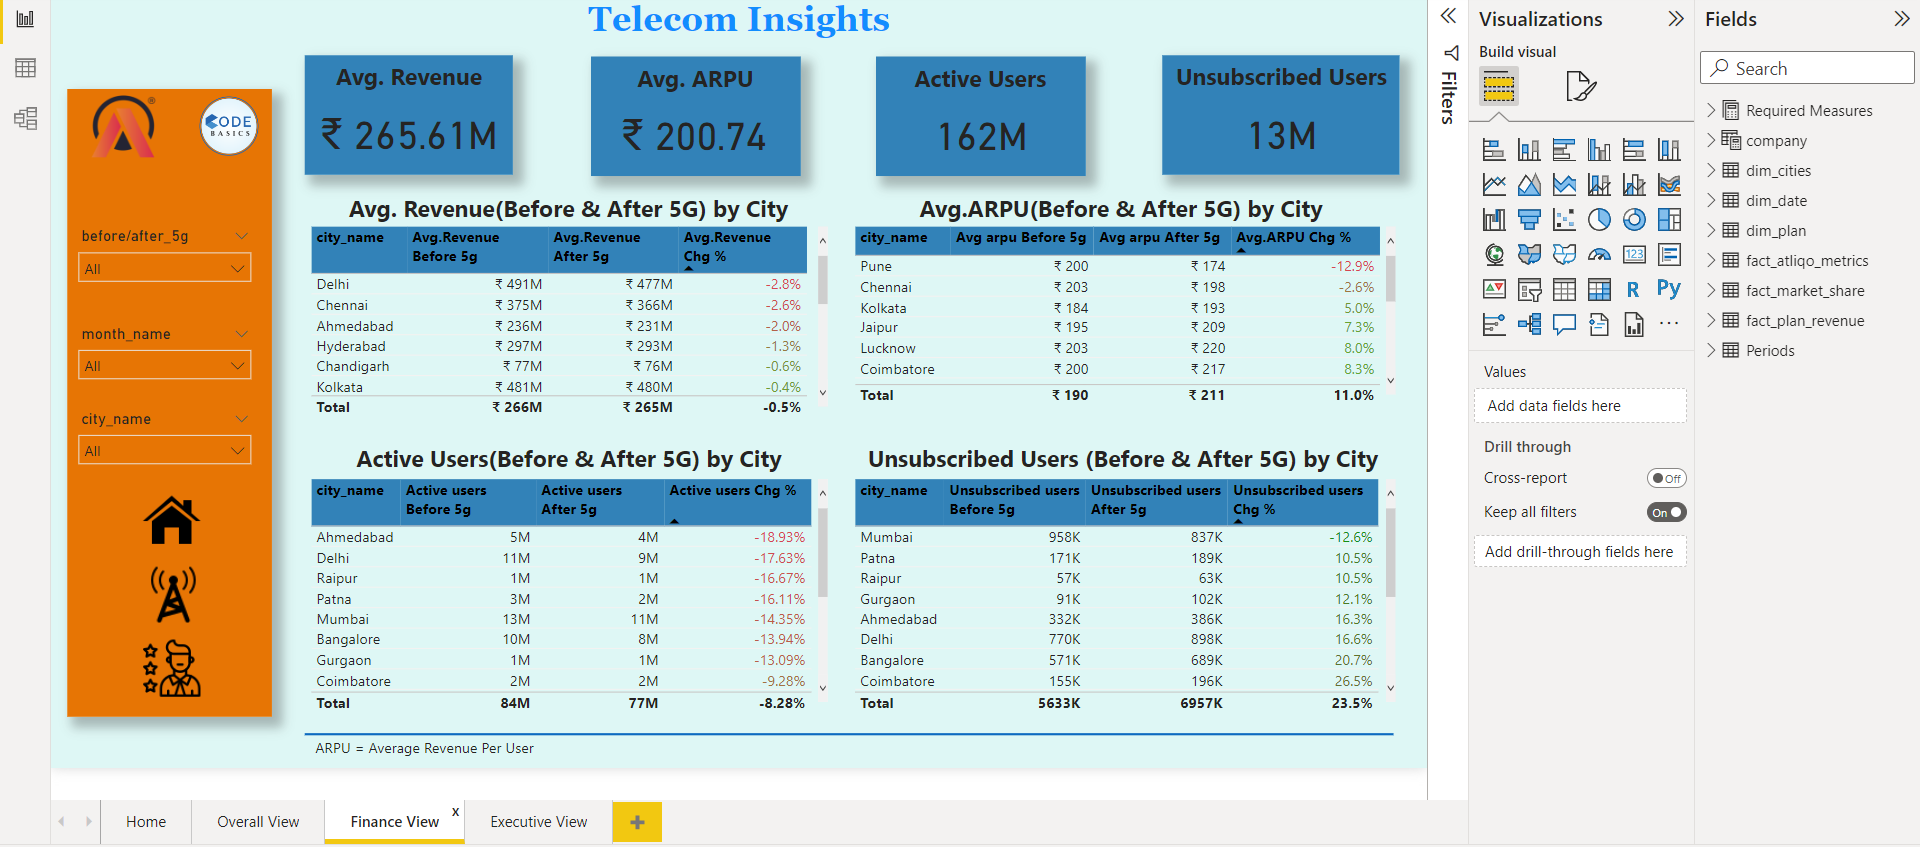

The dashboard page shown, as its layout file describes it:
{"tool":"powerbi","page":{"name":"Finance View","canvas":[1280,720],"ordinal":2},"visuals":[{"type":"shape","box":[235.7,57.4,193.6,111.2],"z":0,"group":"g1"},{"type":"shape","box":[15.5,88.1,190.4,584.3],"z":0},{"type":"shape","box":[501.7,57.8,195,111.2],"z":1000,"group":"g2"},{"type":"slicer","fields":{"Values":["dim_date.month_name"]},"box":[15.5,302.3,180.9,69],"z":1000},{"type":"shape","box":[768.3,57.8,195,111.2],"z":2000,"group":"g3"},{"type":"slicer","fields":{"Values":["dim_cities.city_name"]},"box":[15.5,380.8,180.9,78.5],"z":2000},{"type":"shape","box":[1034.7,57.4,221.1,111.2],"z":3000,"group":"g4"},{"type":"slicer","fields":{"Values":["dim_date.before/after_5g"]},"box":[15.5,211.8,180.9,72.6],"z":3000},{"type":"image","box":[27.4,88.1,79.7,69],"z":4000},{"type":"image","box":[126.1,88.1,79.7,69],"z":5000},{"type":"card","title":"Av","fields":{"Values":["Required Measures.Average Revenue"]},"box":[235.6,89.1,194.2,79.6],"z":5000,"group":"g1"},{"type":"card","fields":{"Values":["Required Measures.Avg arpu"]},"box":[500.9,89.5,194.2,79.6],"z":6000,"group":"g2"},{"type":"tableEx","fields":{"Values":["dim_cities.city_name","Required Measures.Avg arpu Before 5g","Required Measures.Avg arpu After 5g","Required Measures.A arpu CHNG pct"]},"box":[741.4,211.8,514.1,174.9],"z":6000},{"type":"card","fields":{"Values":["Required Measures.Total Active Users"]},"box":[768.9,89.5,194.2,79.6],"z":7000,"group":"g3"},{"type":"tableEx","fields":{"Values":["dim_cities.city_name","Required Measures.Active users Before 5g","Required Measures.Active users After 5g","Required Measures.Active users CHNG pct"]},"box":[235.6,446.3,491.5,226.1],"z":7000},{"type":"card","fields":{"Values":["Required Measures.Total Unsubscribed Users"]},"box":[1034.2,89.1,221.9,79.6],"z":8000,"group":"g4"},{"type":"tableEx","fields":{"Values":["dim_cities.city_name","Required Measures.Unsubcribed users Before 5g","Required Measures.Unsubcribed users After 5g","Required Measures.Unsubscribed users CHNG pct"]},"box":[741.4,446.3,514.1,226.1],"z":8000},{"type":"textbox","box":[1034.2,57.8,221.9,47],"z":9000,"group":"g4"},{"type":"tableEx","fields":{"Values":["dim_cities.city_name","Required Measures.Avg Revenue Before 5g","Required Measures.Avg Revenue After 5g","Required Measures.ARCHNG pct"]},"box":[235.6,211.8,491.5,185.7],"z":9000},{"type":"group","id":"g1","title":"Group 1","box":[235.6,57.4,194.4,111.3],"z":10000},{"type":"textbox","box":[767.7,58.2,194.2,47],"z":10000,"group":"g3"},{"type":"group","id":"g2","title":"Group 2","box":[500.9,57.8,195.8,111.3],"z":11000},{"type":"textbox","box":[502.1,58.2,194.2,47],"z":11000,"group":"g2"},{"type":"textbox","box":[235.8,57.8,194.2,47],"z":12000,"group":"g1"},{"type":"group","id":"g3","title":"Group 3","box":[767.7,57.8,195.6,111.3],"z":12000},{"type":"group","id":"g4","title":"Group 4","box":[1034.2,57.4,221.9,111.3],"z":13000},{"type":"textbox","box":[234.4,178.5,492.7,47.6],"z":14000},{"type":"textbox","box":[741.4,178.5,507,47.6],"z":15000},{"type":"textbox","box":[741.4,411.8,510.5,47.6],"z":16000},{"type":"textbox","box":[235.6,411.8,491.5,47.6],"z":17000},{"type":"textbox","box":[240.4,686.7,233.3,33.3],"z":18000},{"type":"shape","box":[235.6,656.9,1012.8,63.1],"z":19000},{"type":"textbox","box":[0,0,1280.5,57.1],"z":20000},{"type":"image","box":[78.5,528.4,69,61.9],"z":21000},{"type":"image","box":[78.5,459.4,66.6,63.1],"z":22000},{"type":"image","box":[78.5,590.3,66.6,72.6],"z":23000}]}

Visuals, with their boxes on the page's 1280x720 design canvas (x1, y1, x2, y2). These are canvas units, not pixel positions in the 1920x847 screenshot, which may show the page scaled, cropped or inside an application window:
shape: 236,57,429,169
shape: 16,88,206,672
shape: 502,58,697,169
slicer - dim_date.month_name: 16,302,196,371
shape: 768,58,963,169
slicer - dim_cities.city_name: 16,381,196,459
shape: 1035,57,1256,169
slicer - dim_date.before/after_5g: 16,212,196,284
image: 27,88,107,157
image: 126,88,206,157
"Av" card: 236,89,430,169
card - Required Measures.Avg arpu: 501,90,695,169
tableEx - dim_cities.city_name x Required Measures.Avg arpu Before 5g: 741,212,1256,387
card - Required Measures.Total Active Users: 769,90,963,169
tableEx - dim_cities.city_name x Required Measures.Active users Before 5g: 236,446,727,672
card - Required Measures.Total Unsubscribed Users: 1034,89,1256,169
tableEx - dim_cities.city_name x Required Measures.Unsubcribed users Before 5g: 741,446,1256,672
textbox: 1034,58,1256,105
tableEx - dim_cities.city_name x Required Measures.Avg Revenue Before 5g: 236,212,727,398
"Group 1" group: 236,57,430,169
textbox: 768,58,962,105
"Group 2" group: 501,58,697,169
textbox: 502,58,696,105
textbox: 236,58,430,105
"Group 3" group: 768,58,963,169
"Group 4" group: 1034,57,1256,169
textbox: 234,178,727,226
textbox: 741,178,1248,226
textbox: 741,412,1252,459
textbox: 236,412,727,459
textbox: 240,687,474,720
shape: 236,657,1248,720
textbox: 0,0,1280,57
image: 78,528,148,590
image: 78,459,145,522
image: 78,590,145,663
